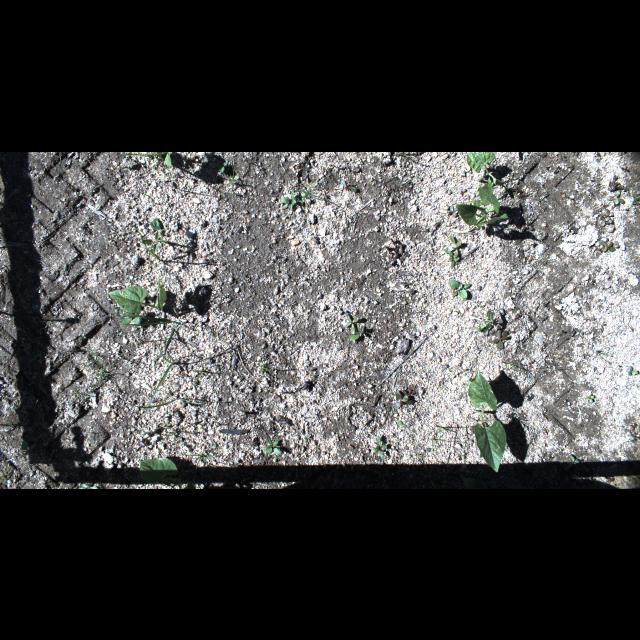crop: (465, 367, 507, 473), (107, 278, 167, 326), (457, 176, 508, 226), (468, 152, 504, 186), (141, 217, 169, 259), (138, 458, 182, 484), (471, 309, 497, 329), (163, 152, 173, 168)
weed: (154, 350, 174, 398), (182, 448, 212, 470), (449, 279, 471, 299), (444, 234, 462, 258), (262, 435, 282, 455), (372, 438, 388, 460), (494, 327, 508, 351), (348, 322, 364, 340), (339, 176, 356, 192), (344, 313, 356, 335), (392, 390, 408, 406), (446, 250, 460, 268), (208, 160, 228, 172), (118, 151, 176, 155), (609, 191, 625, 205), (624, 426, 638, 442), (566, 455, 580, 469), (96, 364, 108, 380), (396, 419, 410, 431), (600, 239, 614, 251), (600, 214, 612, 226), (230, 168, 240, 182), (603, 208, 613, 222), (1, 472, 11, 484), (628, 365, 638, 375), (584, 393, 594, 402), (77, 484, 99, 488), (258, 362, 266, 373), (73, 390, 81, 398), (634, 194, 640, 204), (19, 449, 27, 456), (460, 452, 466, 460), (304, 435, 310, 443), (16, 366, 22, 372), (86, 459, 90, 465)
